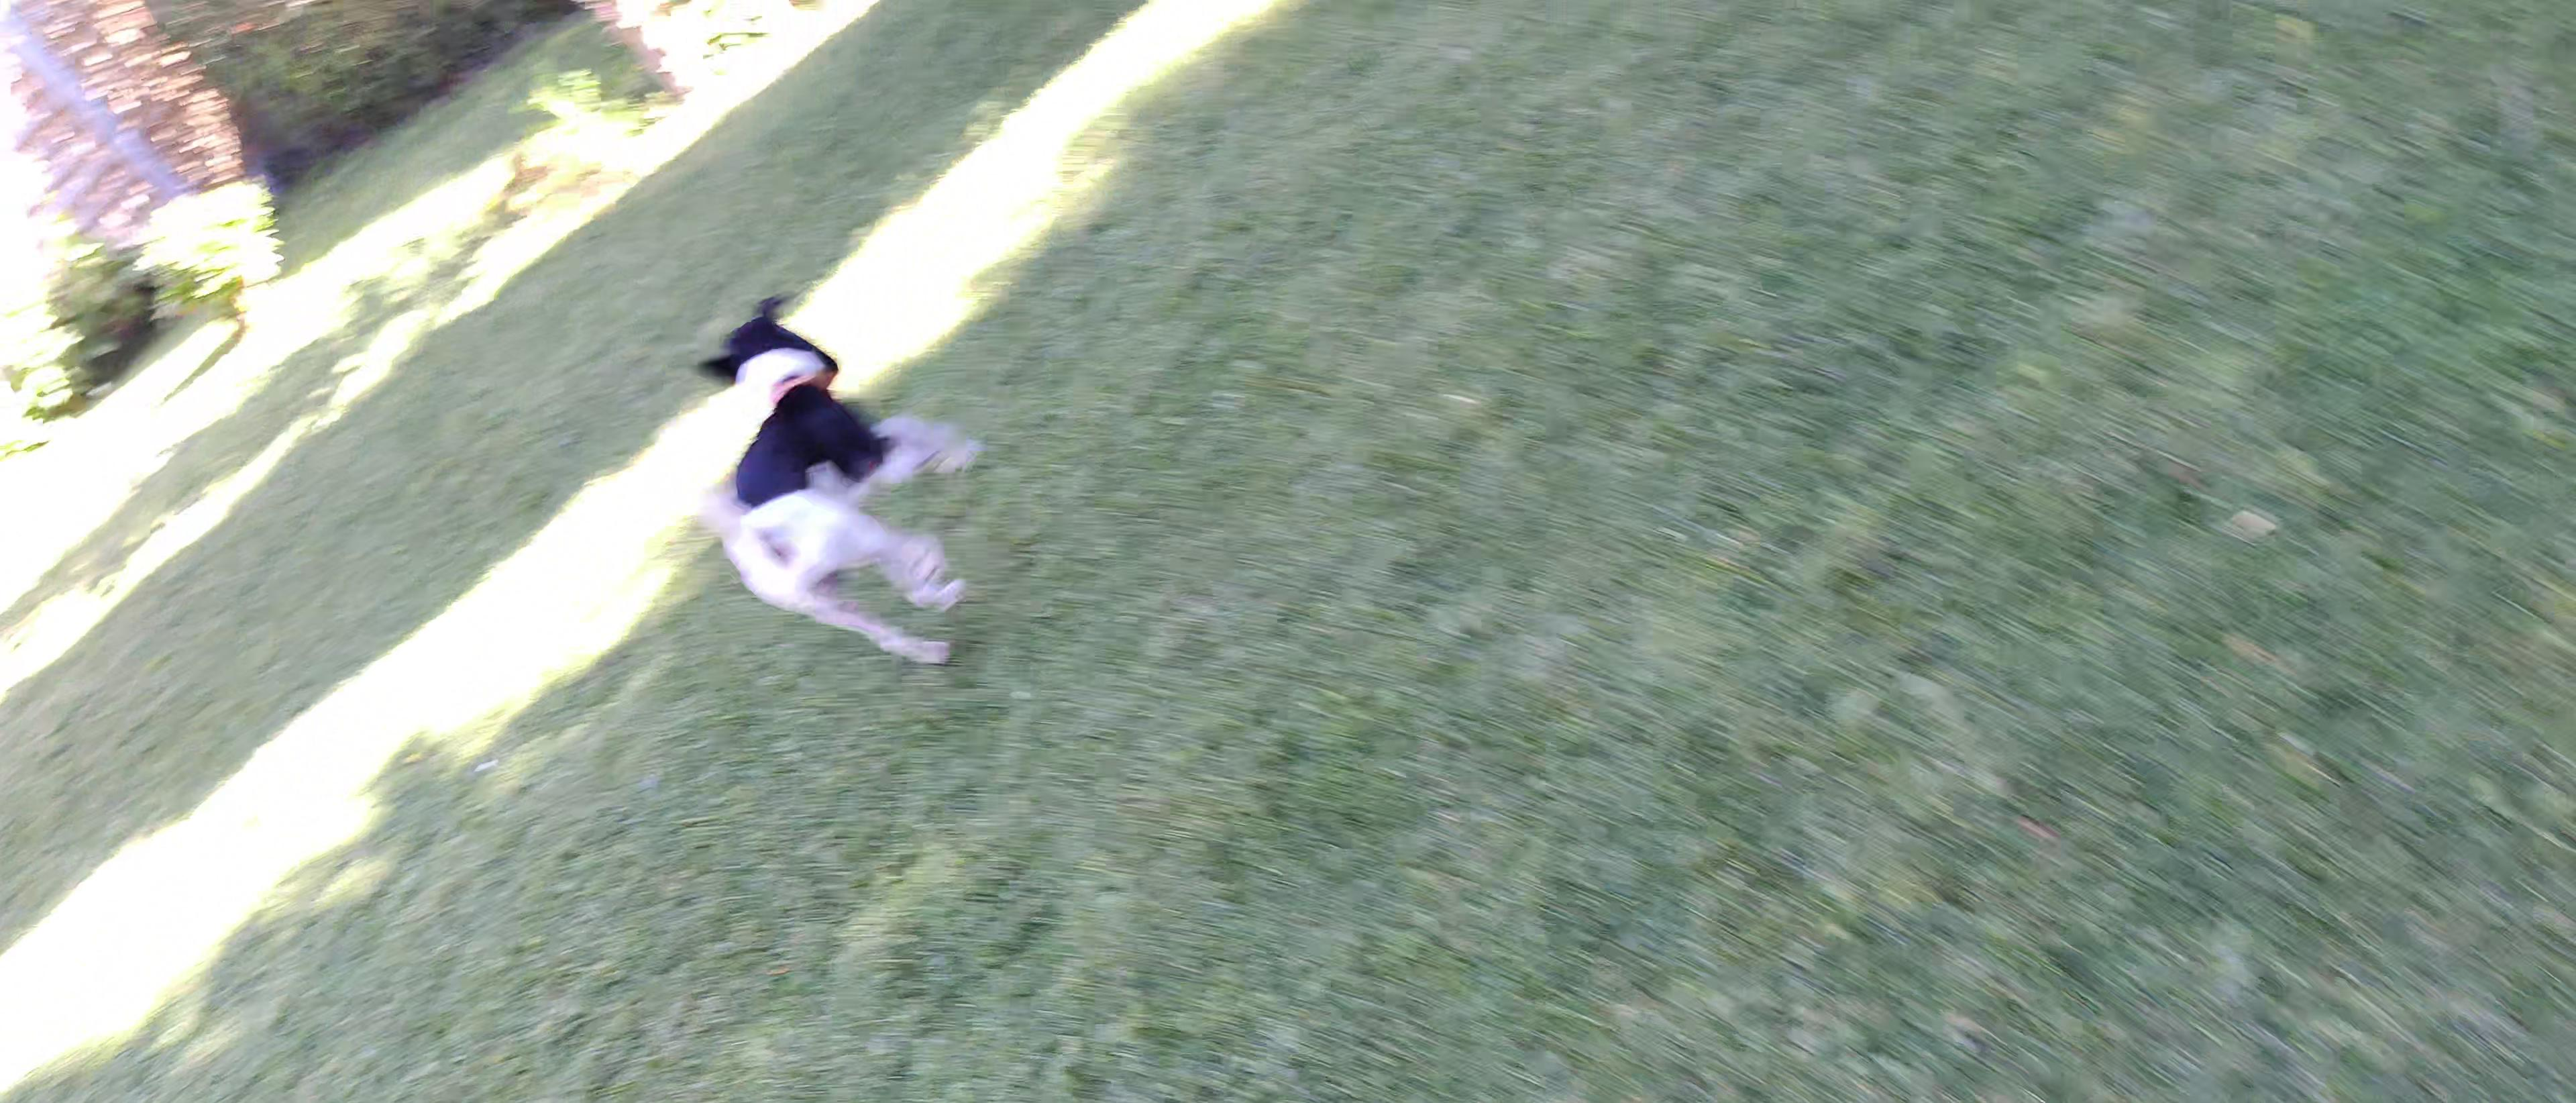Dog: (692, 281, 984, 674)
